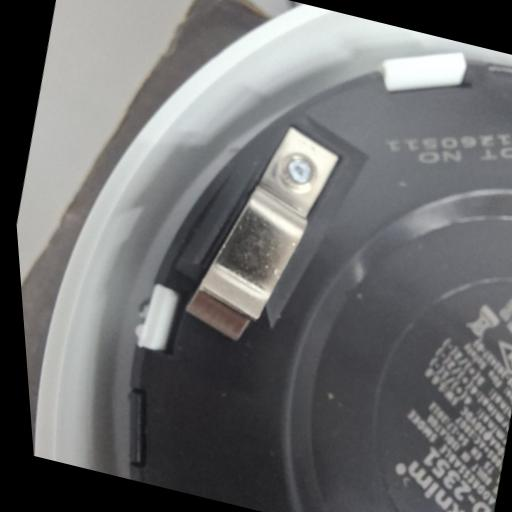yayli: (162, 108, 359, 362)
